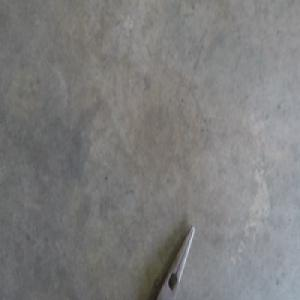Pliers: (150, 223, 194, 299)
